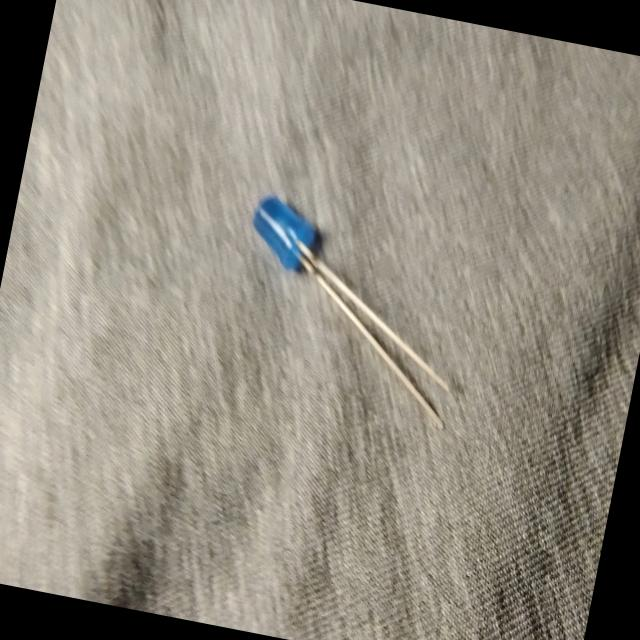blue_led: (243, 190, 329, 278)
